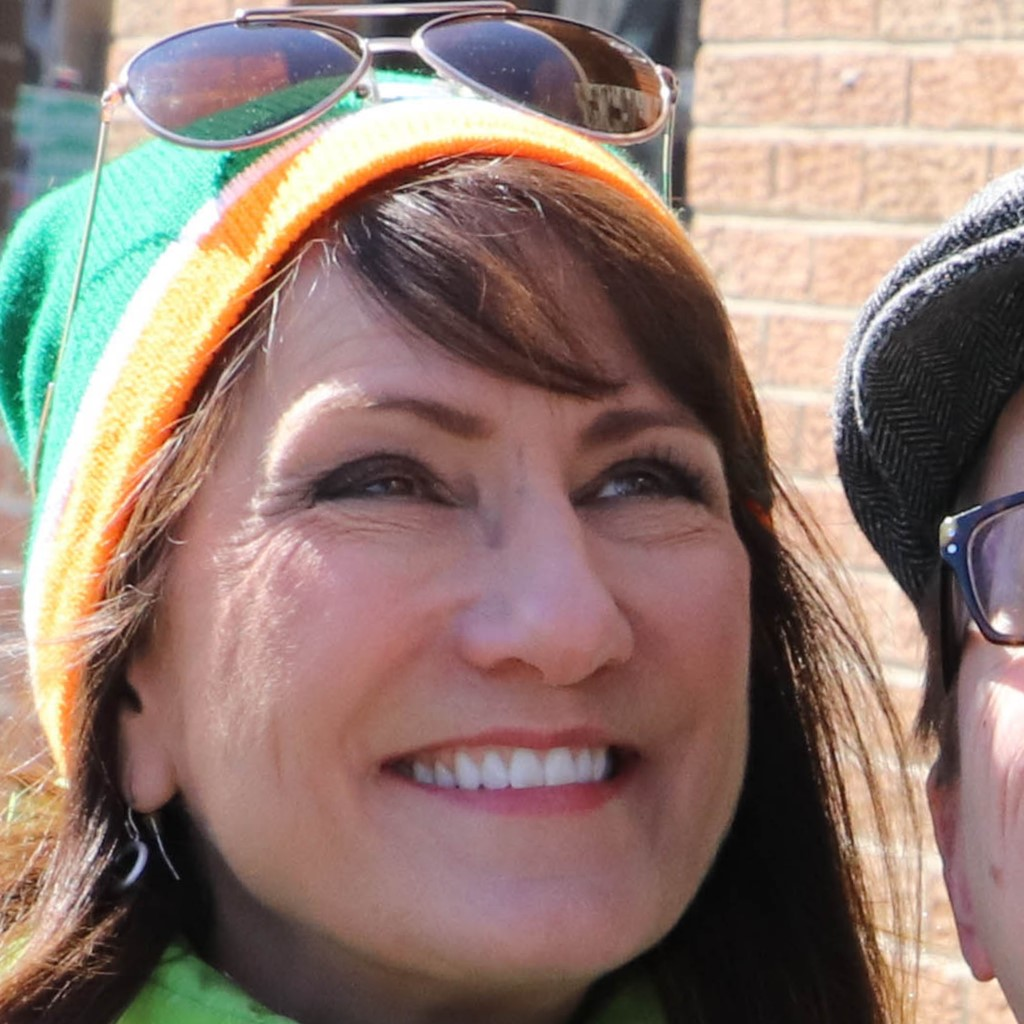sin_mascara: (134, 193, 746, 977)
